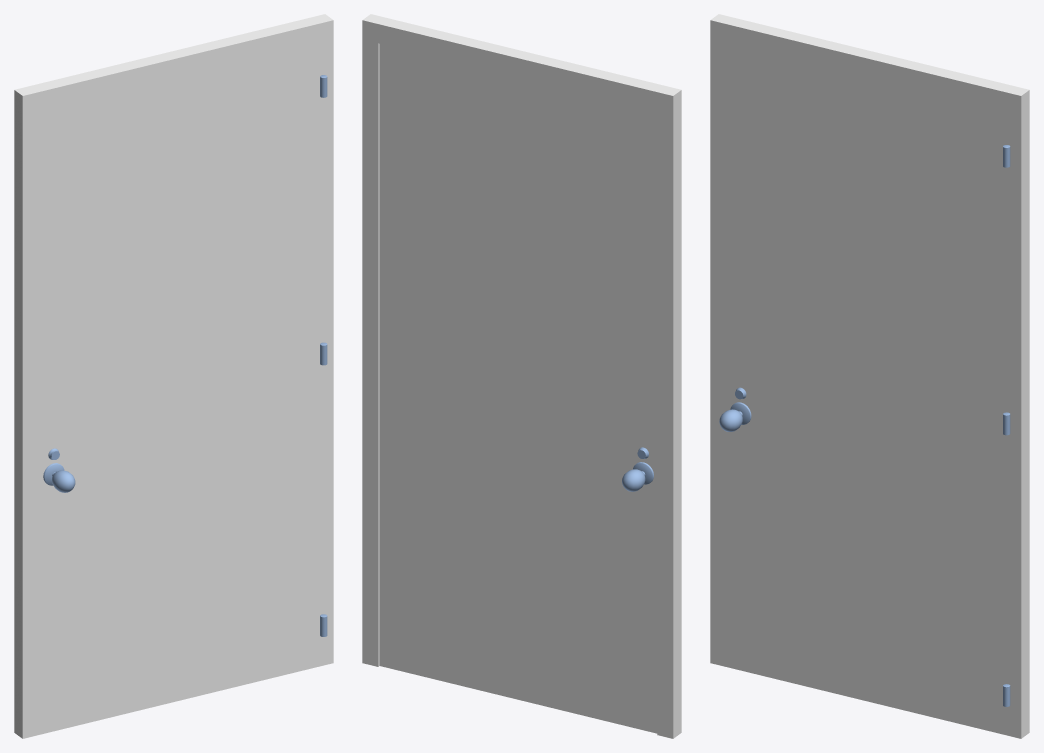
File: DoorClassic01.FBX
3 views of the same model, side by side, from view 1: azimuth 30°, elevation 25°; view 2: azimuth 150°, elevation 25°; view 3: azimuth 330°, elevation 25° (orthographic).
Parts seen in each view (by area): view 1: Door, Frame; view 2: Door, Frame; view 3: Door, Frame.
Part boxes in pixels (x1,y1,x2,y2): Door: (35,38,327,735); Frame: (14,14,333,738); Door: (379,44,657,733); Frame: (362,14,681,738); Door: (722,38,1010,735); Frame: (710,14,1029,738).
Size of the model in its own units: 1.27 by 2.51 by 0.2862.
